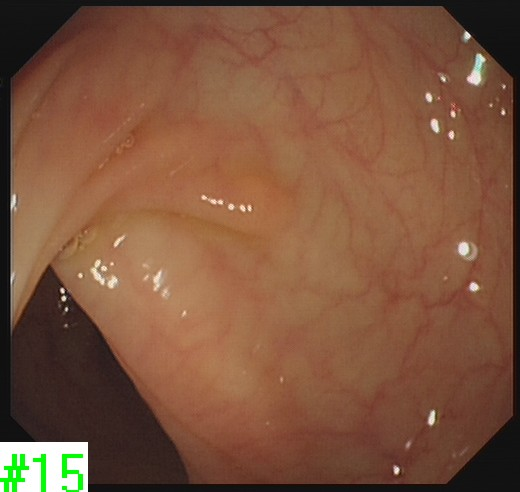others: (220, 172, 289, 240)
